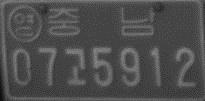0: (11, 47, 35, 87)
1: (146, 47, 170, 88)
2: (174, 46, 197, 88)
5: (91, 45, 114, 86)
7: (36, 46, 59, 88)
9: (119, 46, 141, 87)
고: (64, 47, 87, 86)
영: (7, 4, 42, 43)
충남_D: (48, 5, 158, 39)
